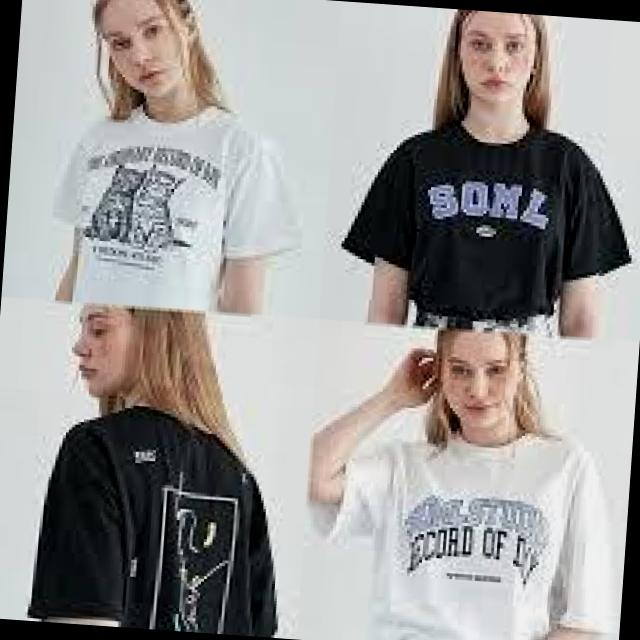Tshirt: (307, 404, 616, 640), (327, 115, 640, 343), (14, 404, 304, 639), (35, 94, 322, 330)
